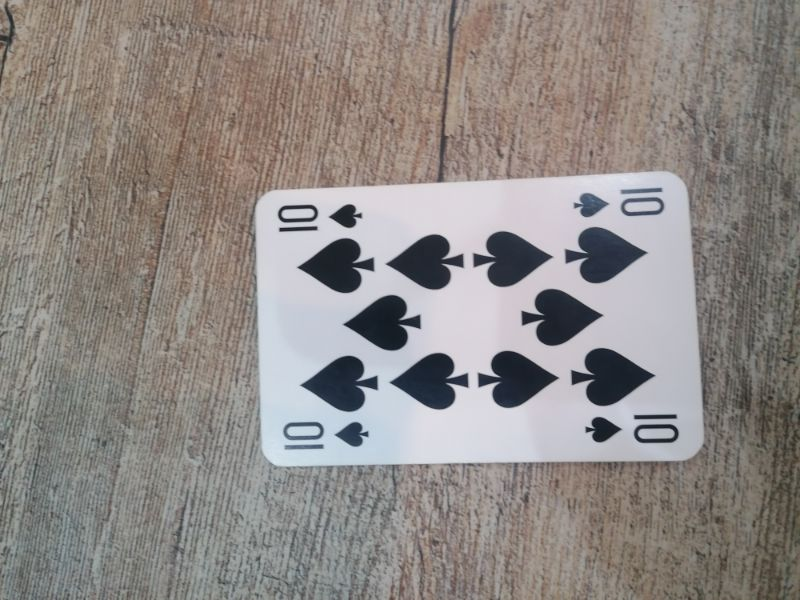Ts: (571, 182, 668, 224), (275, 197, 366, 237), (584, 411, 682, 448), (280, 416, 372, 455)
